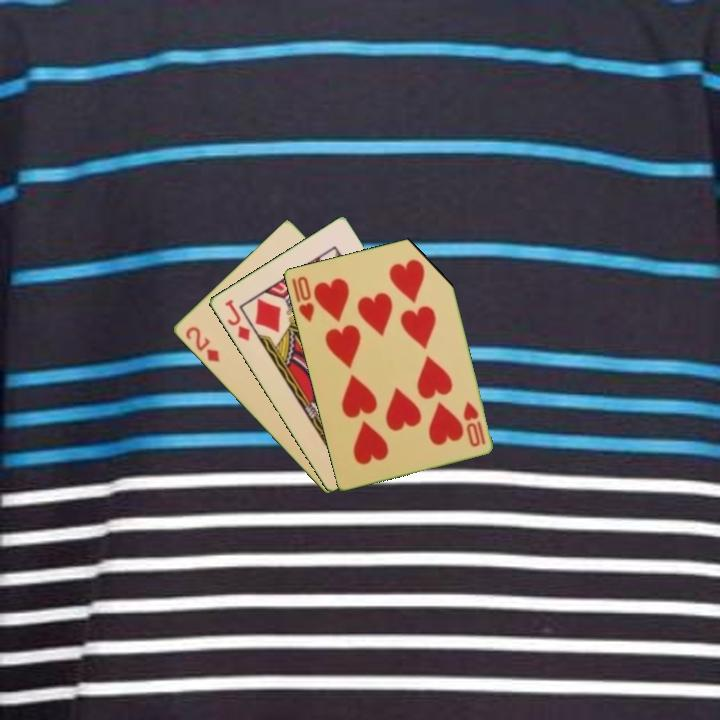10h: (288, 272, 317, 325), (459, 398, 488, 449)
2d: (181, 323, 222, 365)
Jd: (221, 296, 253, 344)
